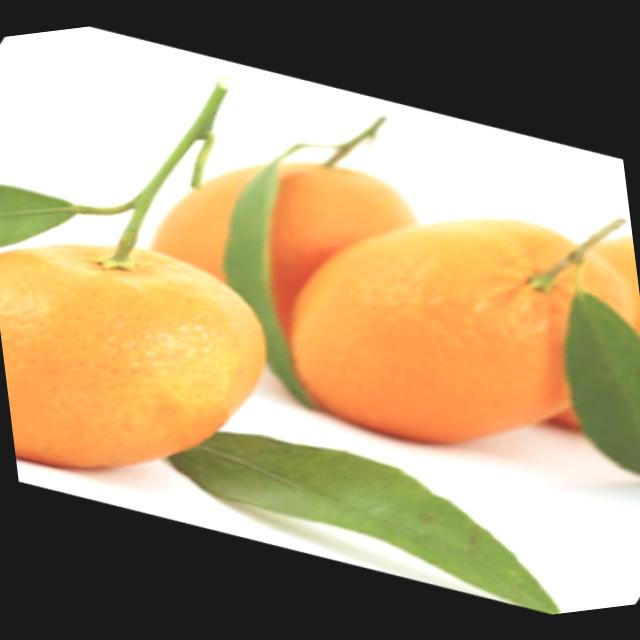orange: (276, 196, 614, 450)
